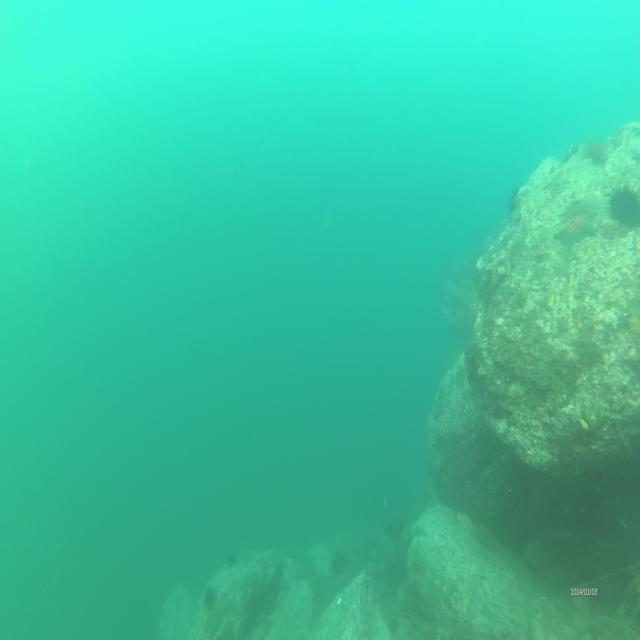echinus: (606, 182, 640, 226), (332, 550, 346, 574), (203, 587, 217, 606)
starfish: (557, 205, 597, 255)
